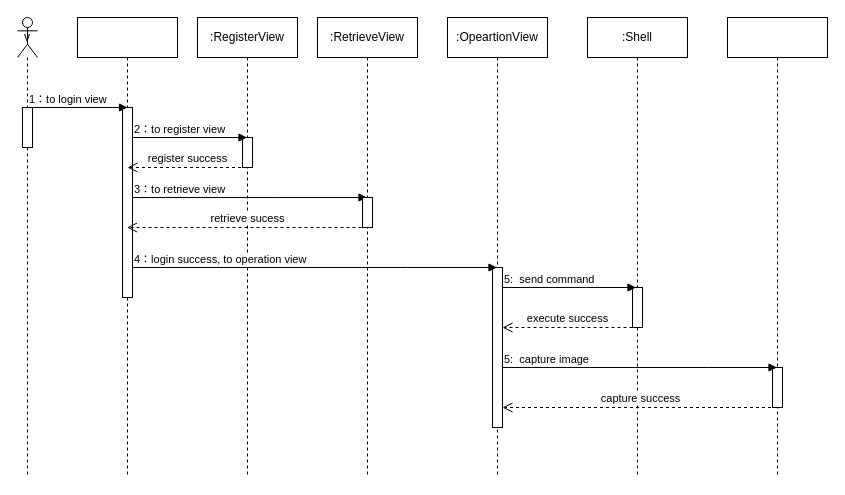
This 845x495 diagram has some shape labels left out. Each missing label, with the box of its shape:
:LoginView: (76, 16, 178, 478)
:Screen: (726, 16, 828, 478)
